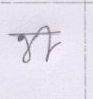i_matra: (40, 25, 56, 62)
